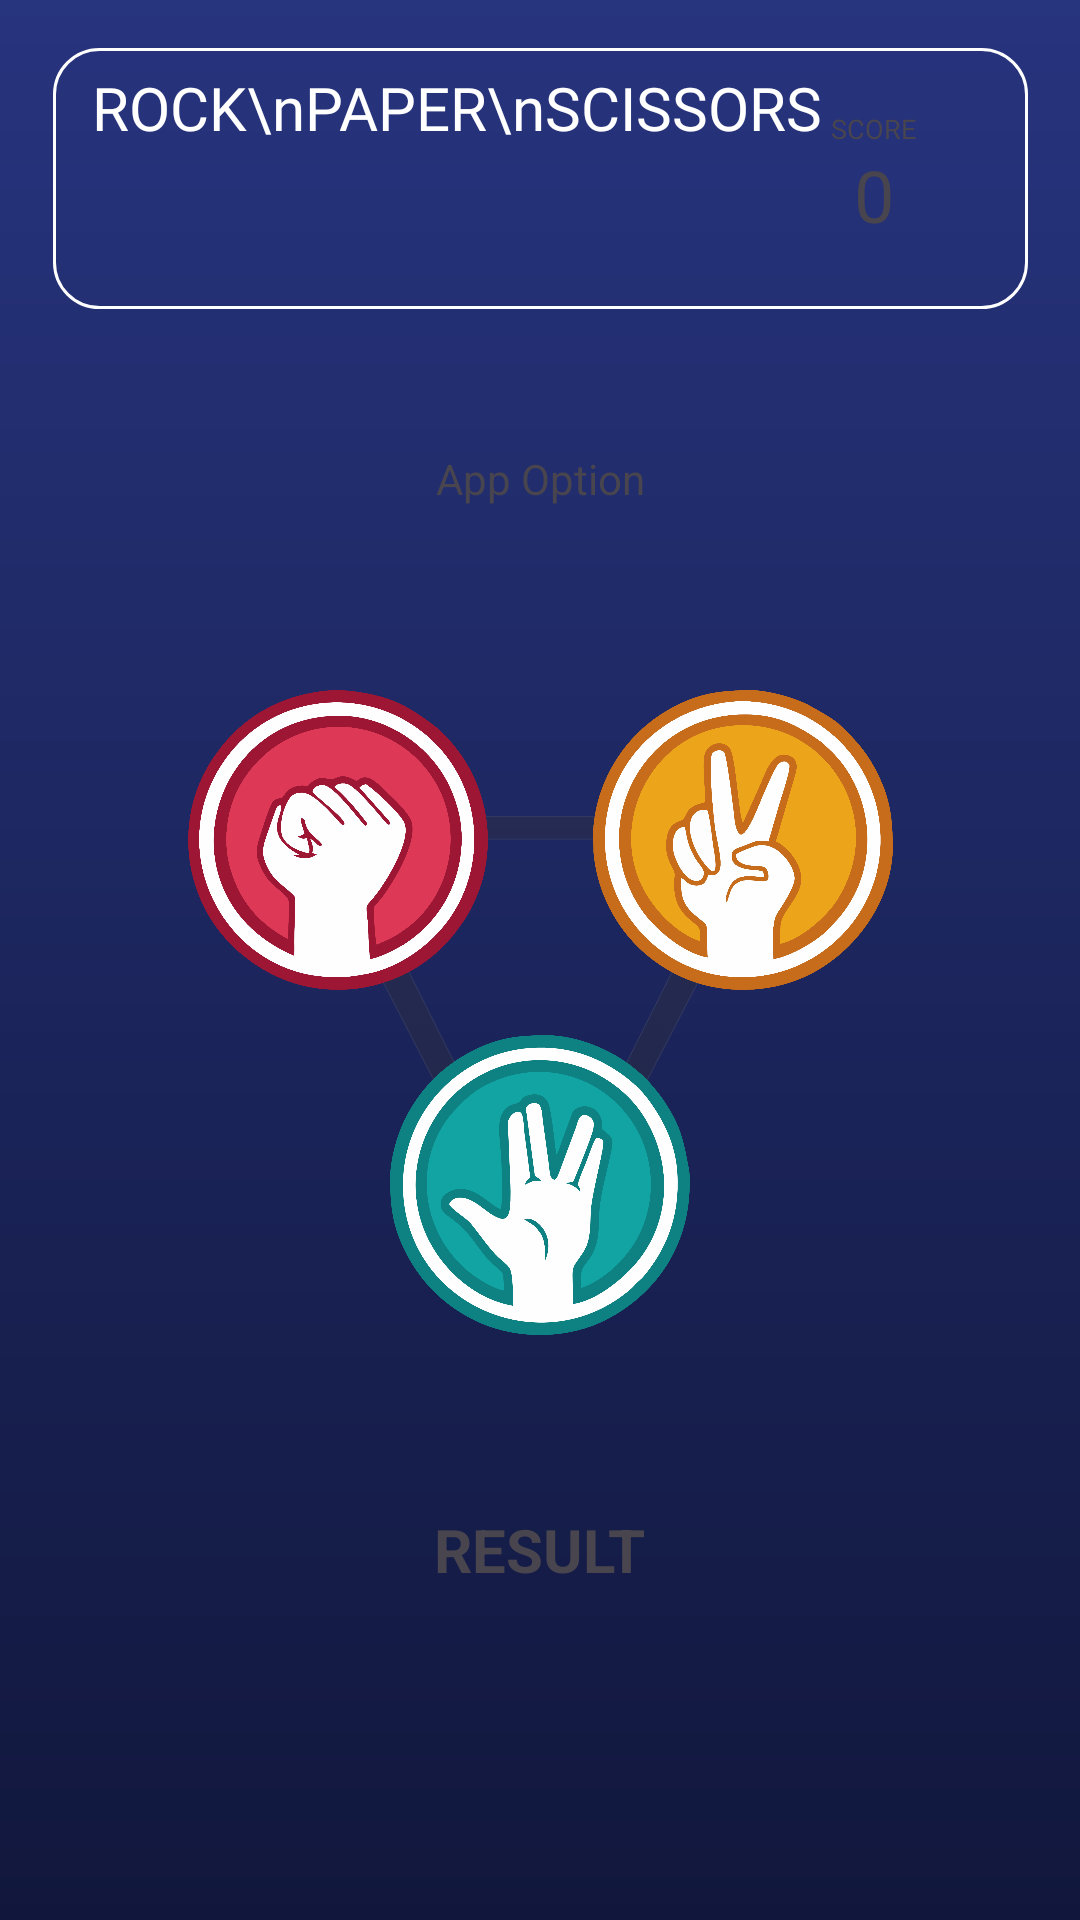

Screen size 1080px x 1920px. Icon name, then its center in pixels as (x=x, y=y):
rock: (x=338, y=840)
scissors: (x=743, y=840)
